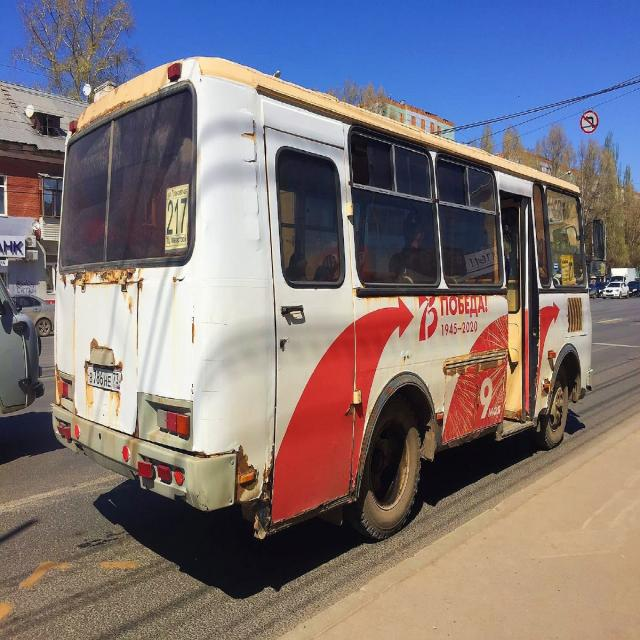number-of-bus: (167, 199, 190, 237)
